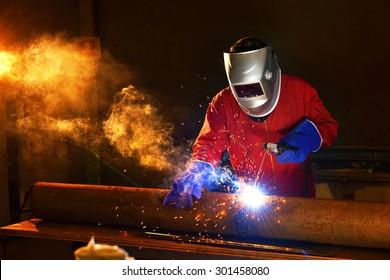gloves: (161, 159, 217, 211), (274, 118, 323, 164)
